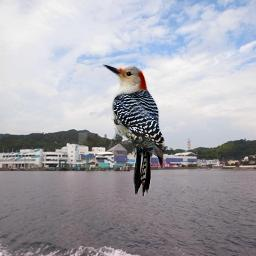Woodpecker: (103, 64, 165, 196)
